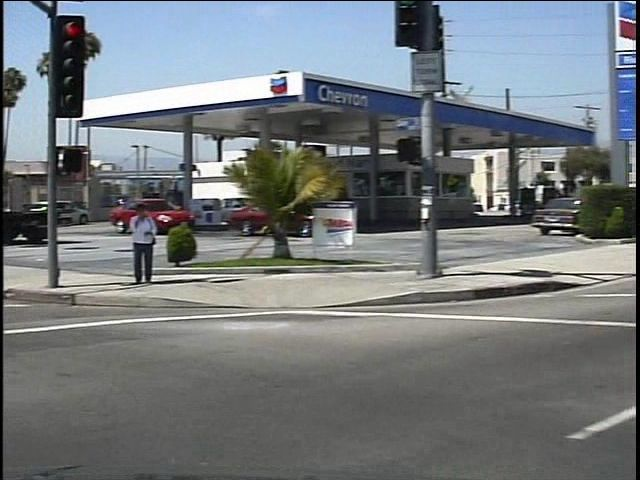person: (118, 200, 152, 291)
